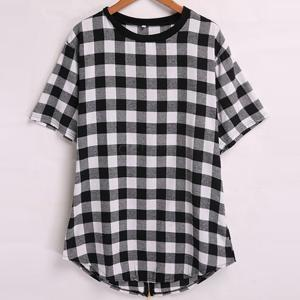C_T-shirt: (25, 3, 265, 300)
